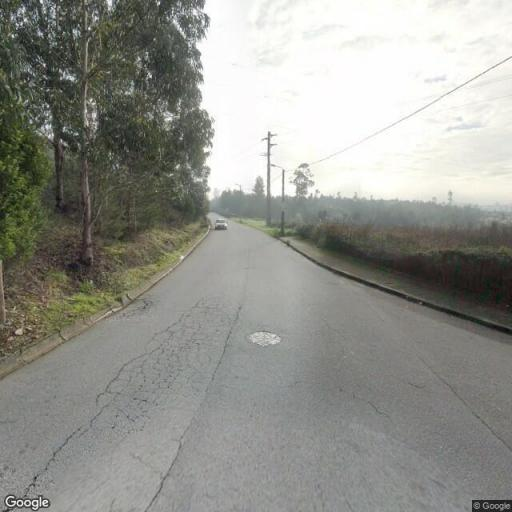mono_10: (262, 128, 278, 225)
